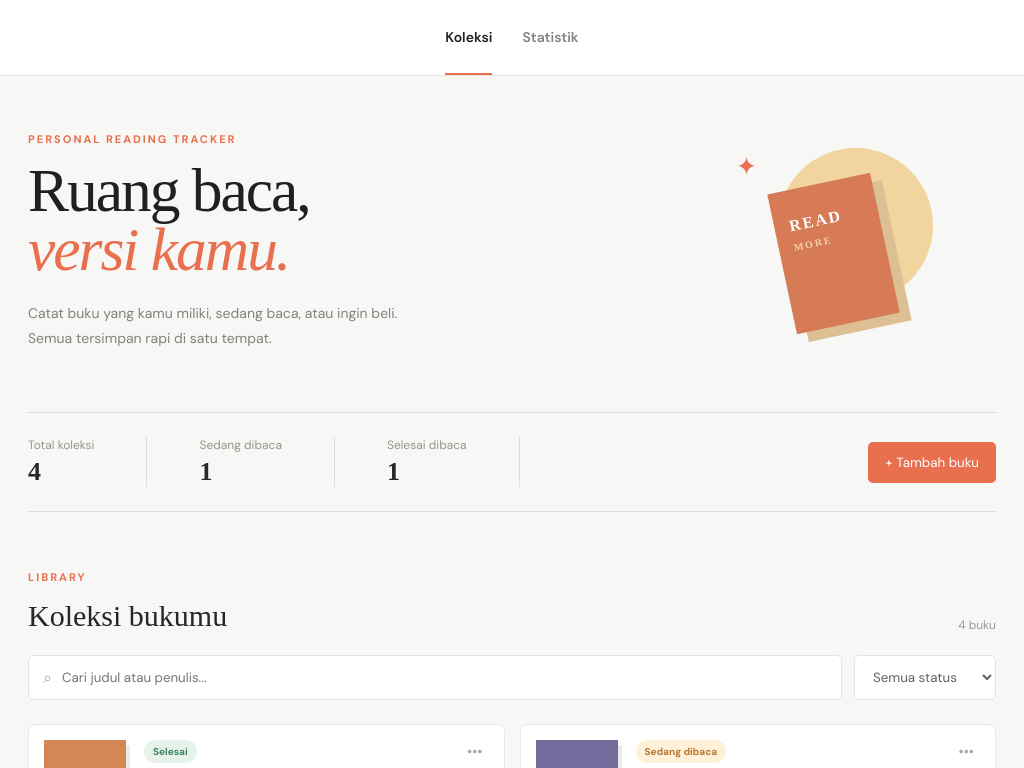
Test: BookShelf app › berpindah ke halaman statistik
Click the link "Statistik".
click(550, 36)  # box left=522, top=28, right=579, bottom=46
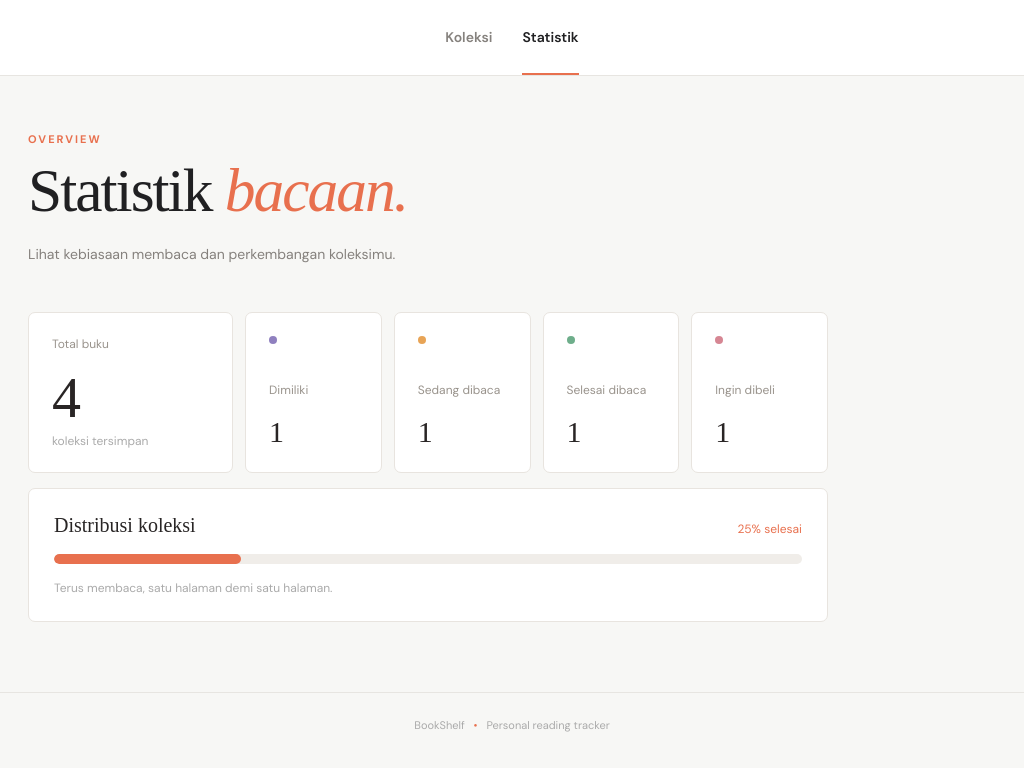
Now the heading "Statistik bacaan." is shown, box left=28, top=156, right=407, bottom=224
Now the heading "Distribusi koleksi" is shown, box left=54, top=514, right=196, bottom=537
